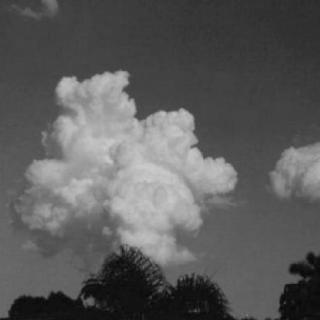Cumulus: (0, 69, 320, 270)
